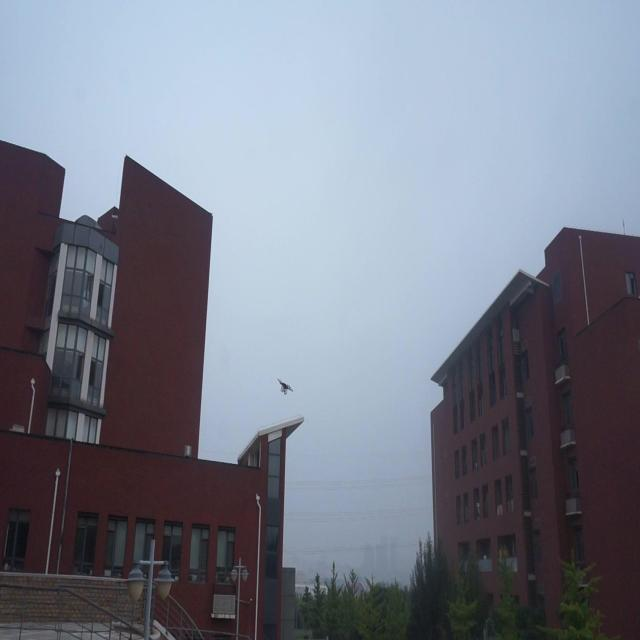drone: (275, 371, 295, 402)
